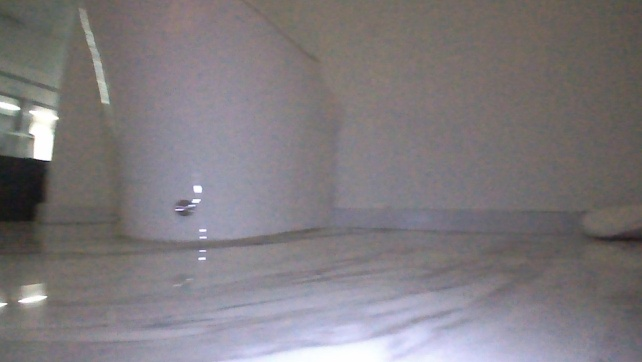toilet: (78, 0, 344, 250)
